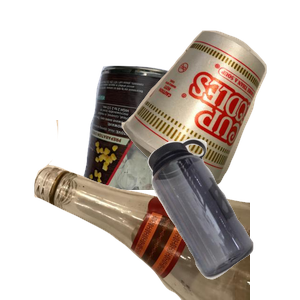glass: (31, 120, 271, 300)
metal: (78, 63, 266, 243)
plastic: (145, 136, 300, 300)
trash: (119, 28, 300, 207)
